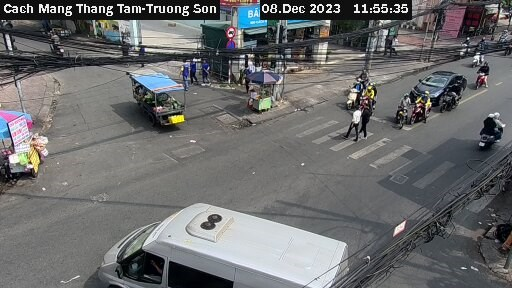car: (95, 196, 358, 288), (409, 65, 464, 105)
motorbike: (477, 106, 505, 155), (43, 37, 73, 63), (478, 67, 499, 97), (339, 87, 363, 104), (471, 48, 491, 67), (349, 71, 373, 86), (456, 35, 473, 54)
